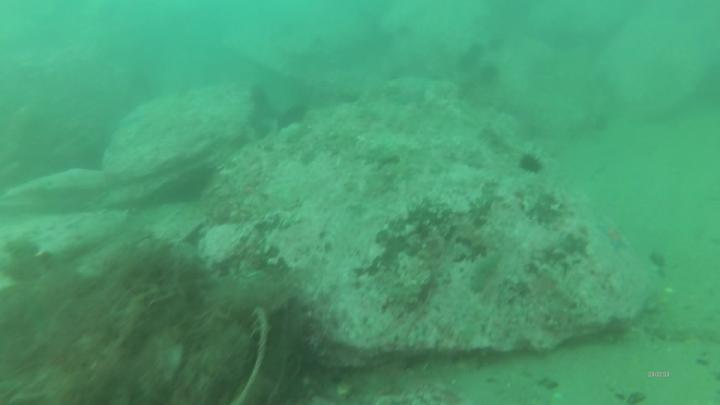echinus: (520, 157, 541, 173)
holothurian: (469, 253, 501, 292)
